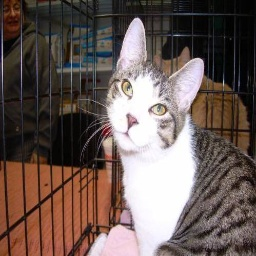cat: (84, 15, 256, 256)
